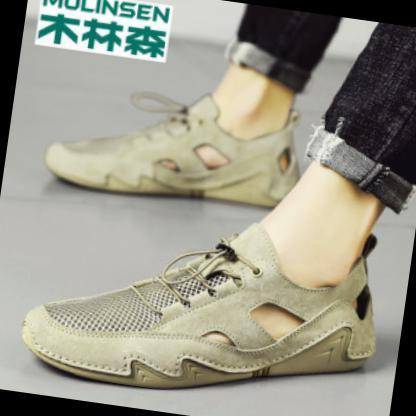no_safety-shoe: (8, 202, 401, 415), (33, 83, 312, 231)
